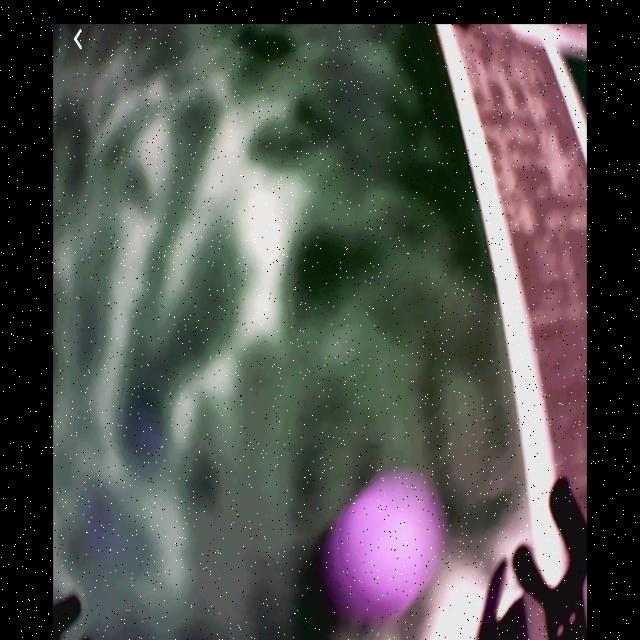ball: (335, 475, 436, 619)
